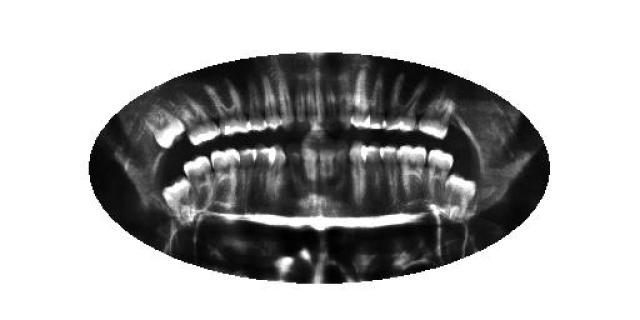Fillings: (204, 82, 248, 136)
Restorations: (141, 106, 185, 149)
